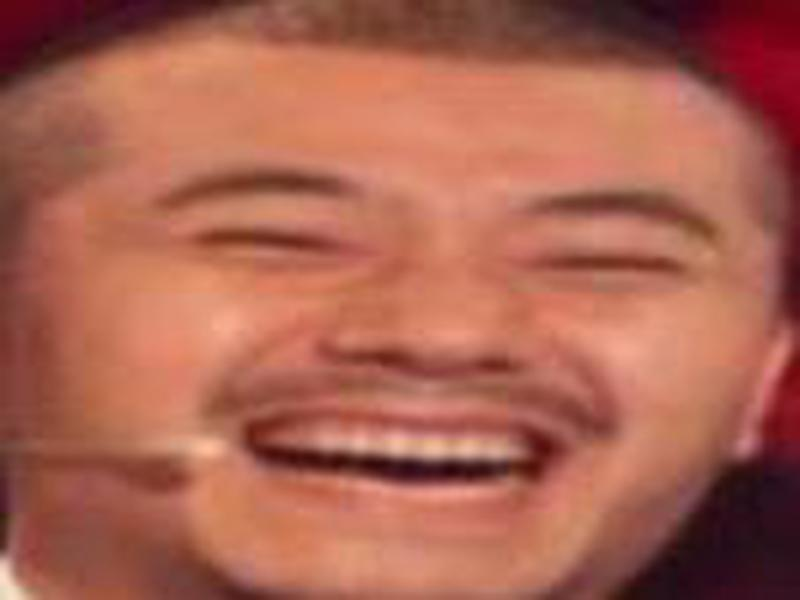without_mask: (25, 50, 763, 600)
